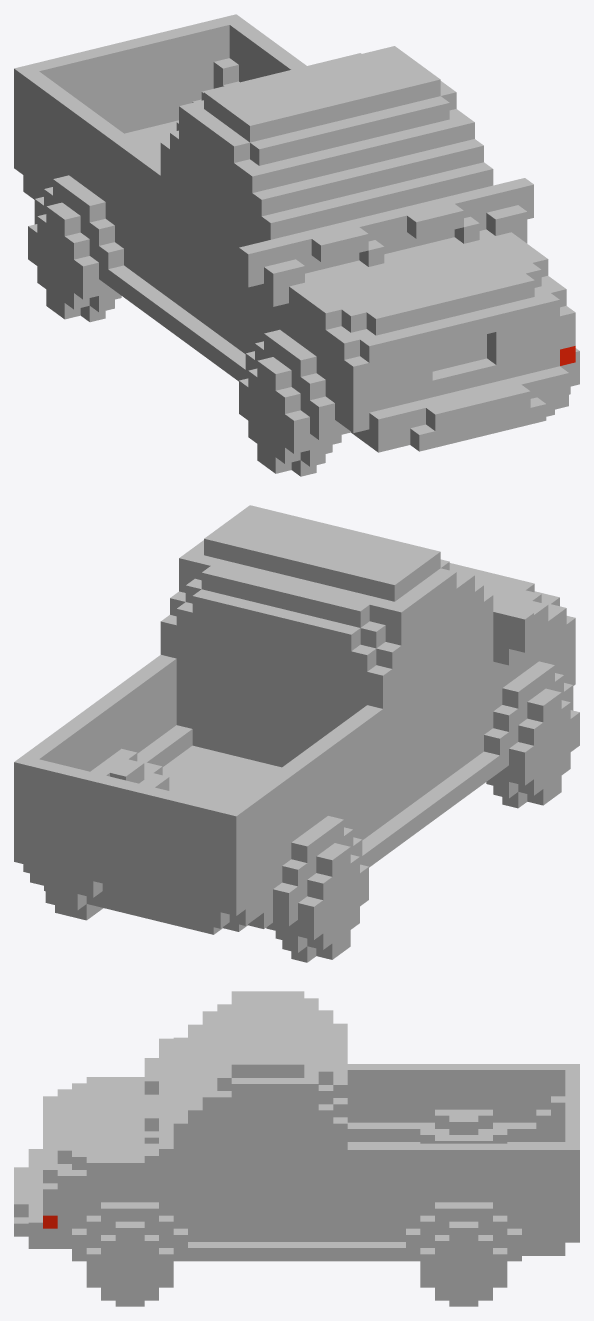
The model's file is PickupCar.fbx.
The picture shows the model from 3 angles, top to bottom: view 1: azimuth 30°, elevation 25°; view 2: azimuth 150°, elevation 25°; view 3: azimuth 270°, elevation 25°; orthographic projection. The views are drawn at different scales.
Parts seen in each view (by area): view 1: Body, Down, FrontWindow, Wheel.004, Wheel.003, RightWindow, FrontSign, Radiator, RightMirror, LeftMirror, RightCleaner, LeftCleaner (+4 smaller); view 2: Body, Down, Wheel.003, Wheel.004, RightWindow, RightMirror, BackSign, RightBackLight, RightBackTurn, LeftBackLight, WhiteDisk.001, WhiteDisk.002; view 3: Body, Down, LeftWindow, Wheel, Wheel.001, FrontWindow, LeftMirror, WhiteDisk, Wheel.002, LeftCleaner, RightCleaner, LeftFrontLight.
Boxes of the visible parts, bbox=[...] form: Body: bbox=[14, 14, 575, 432]; Down: bbox=[23, 175, 568, 452]; FrontWindow: bbox=[259, 119, 486, 273]; Wheel.004: bbox=[239, 350, 341, 476]; Wheel.003: bbox=[28, 196, 121, 322]; RightWindow: bbox=[188, 130, 261, 249]; FrontSign: bbox=[442, 388, 514, 443]; Radiator: bbox=[417, 328, 512, 384]; RightMirror: bbox=[239, 240, 304, 299]; LeftMirror: bbox=[486, 178, 533, 235]; RightCleaner: bbox=[311, 227, 384, 266]; LeftCleaner: bbox=[407, 204, 479, 243]; Body: bbox=[14, 505, 575, 928]; Down: bbox=[23, 661, 573, 934]; Wheel.003: bbox=[266, 836, 368, 962]; Wheel.004: bbox=[486, 682, 579, 808]; RightWindow: bbox=[410, 596, 483, 704]; RightMirror: bbox=[493, 605, 533, 665]; BackSign: bbox=[102, 883, 165, 922]; RightBackLight: bbox=[204, 843, 245, 895]; RightBackTurn: bbox=[220, 860, 245, 899]; LeftBackLight: bbox=[14, 795, 45, 852]; WhiteDisk.001: bbox=[332, 880, 350, 926]; WhiteDisk.002: bbox=[543, 726, 561, 771]; Body: bbox=[43, 991, 579, 1241]; Down: bbox=[14, 1149, 579, 1261]; LeftWindow: bbox=[188, 1097, 304, 1162]; Wheel: bbox=[86, 1221, 173, 1306]; Wheel.001: bbox=[420, 1221, 507, 1306]; FrontWindow: bbox=[159, 1017, 217, 1130]; LeftMirror: bbox=[144, 1136, 173, 1182]; WhiteDisk: bbox=[115, 1254, 144, 1280]; Wheel.002: bbox=[449, 1254, 478, 1280]; LeftCleaner: bbox=[144, 1100, 158, 1143]; RightCleaner: bbox=[144, 1063, 158, 1099]; LeftFrontLight: bbox=[43, 1183, 57, 1215].
Bounding box in the file's own units: 180 × 170 × 390.
